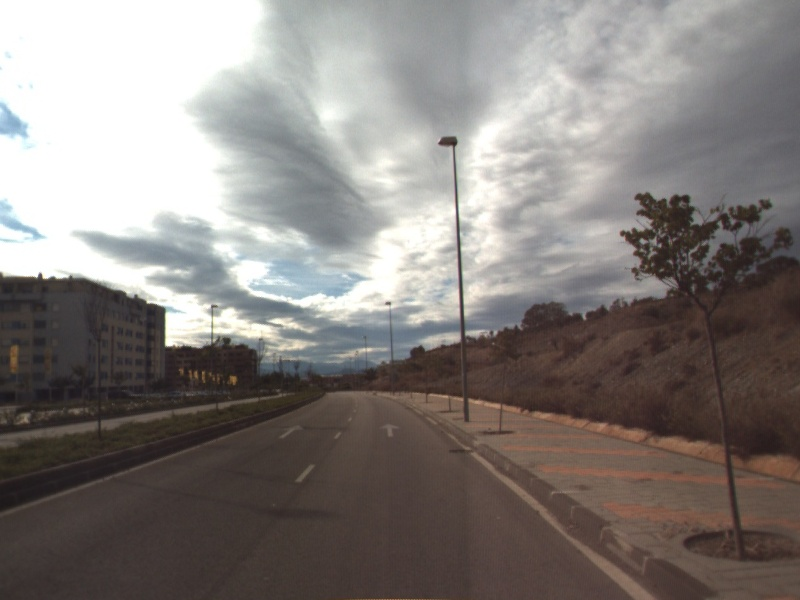STRAIGHT: (277, 422, 306, 441), (377, 421, 402, 438)
